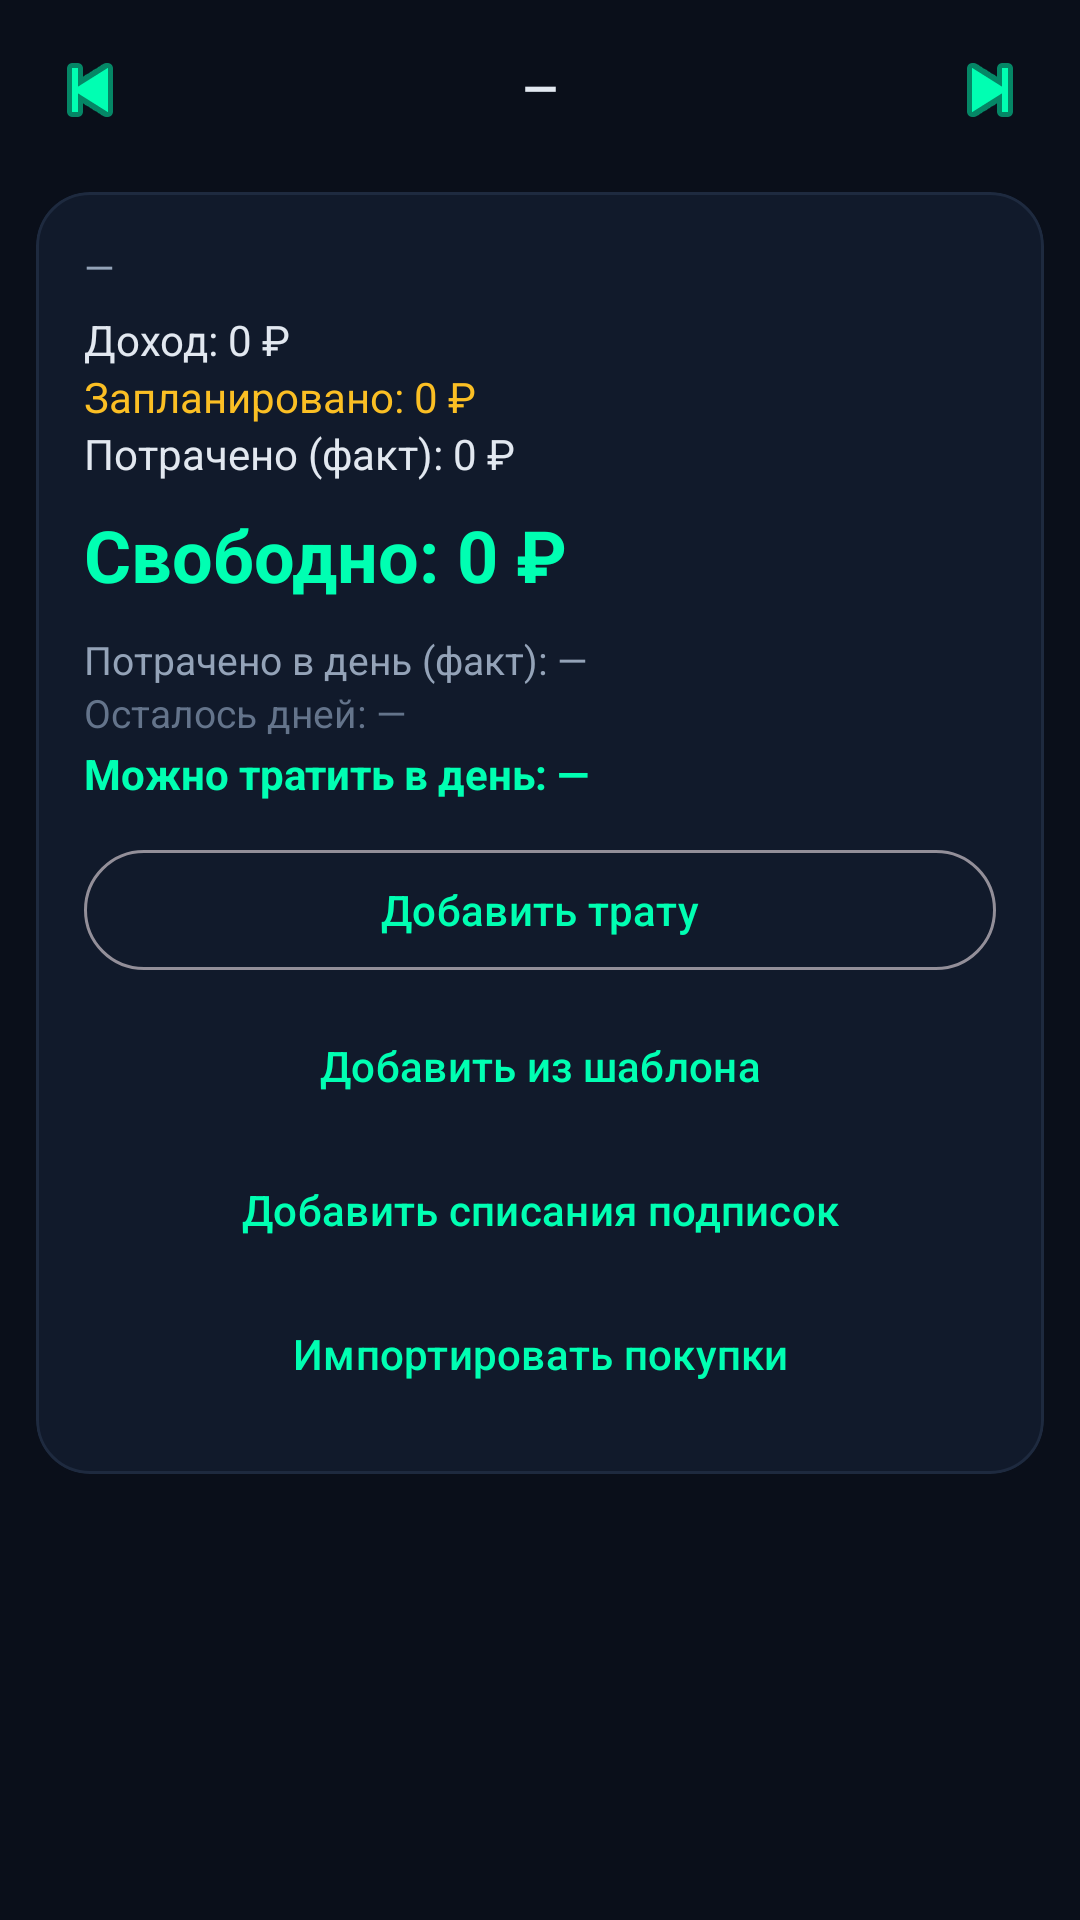

Screen size 1080px×1920px. Icon name, then its center in pixels as (x,y):
Предыдущий период: (90,90)
Следующий период: (990,90)
